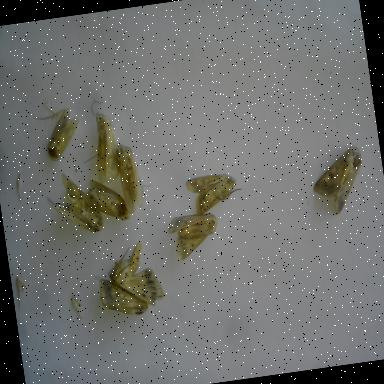abw: (40, 164, 108, 242), (100, 236, 168, 314), (305, 142, 372, 221), (80, 93, 128, 188), (162, 205, 226, 267), (108, 134, 150, 216), (92, 268, 152, 324), (183, 168, 247, 220), (78, 174, 134, 232), (38, 102, 87, 165)
